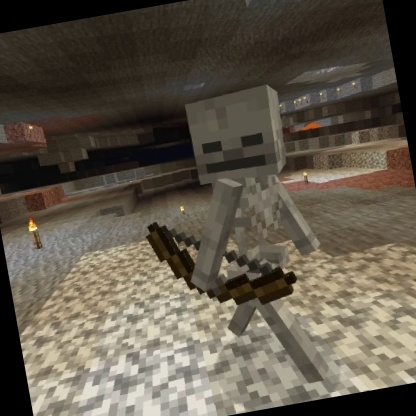skeleton: (120, 74, 349, 412)
